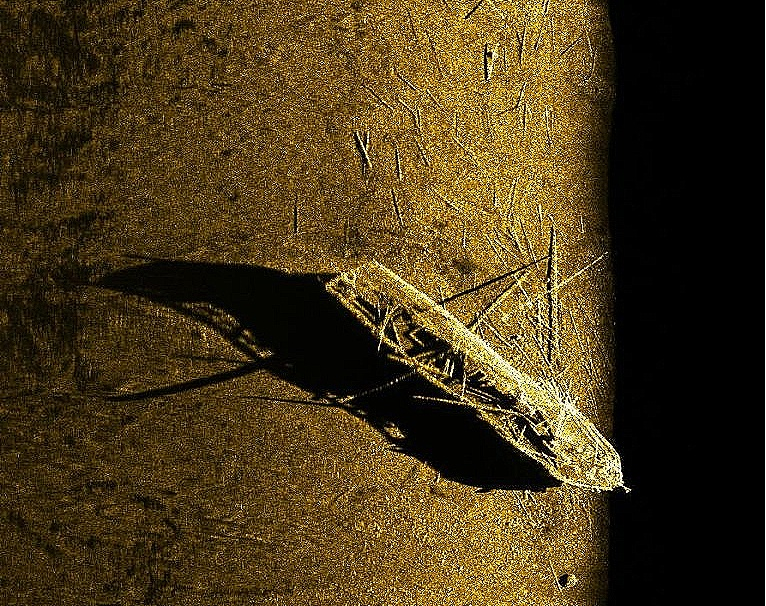ship: (322, 257, 634, 496)
